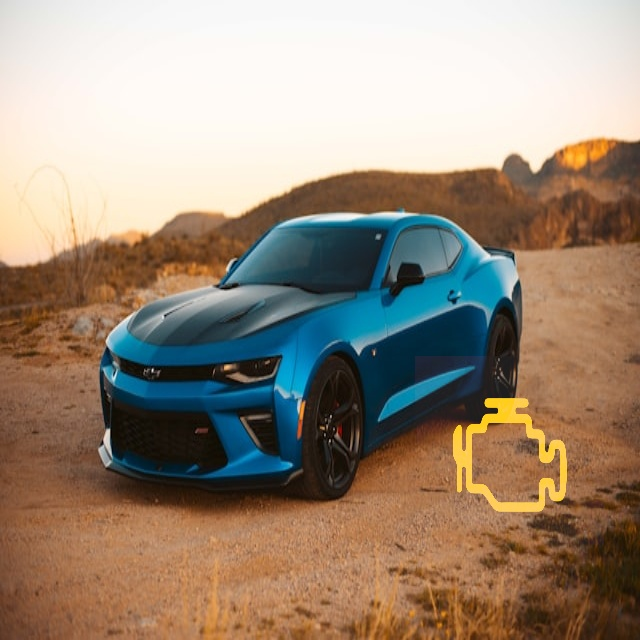symbol: (59, 39, 258, 238), (415, 356, 604, 545)
